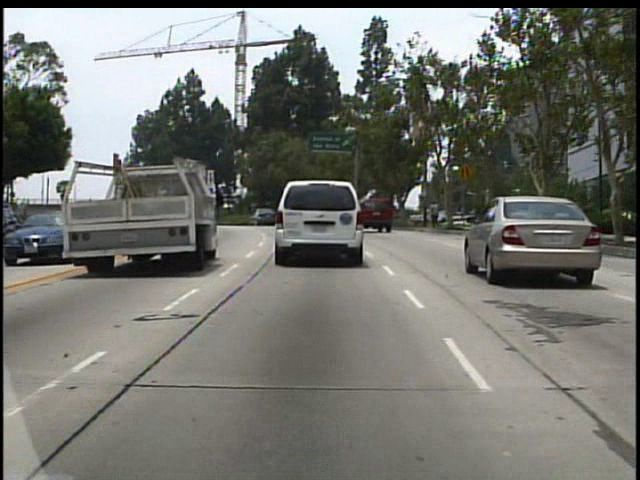person: (429, 195, 442, 229)
